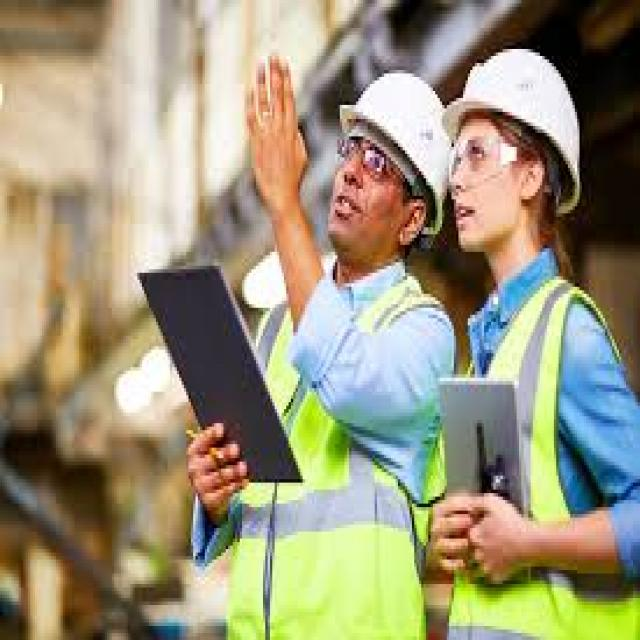Reflective-Jacket: (214, 276, 440, 633), (442, 276, 636, 633)
Safety-Helmet: (447, 42, 586, 206), (333, 63, 456, 224)
